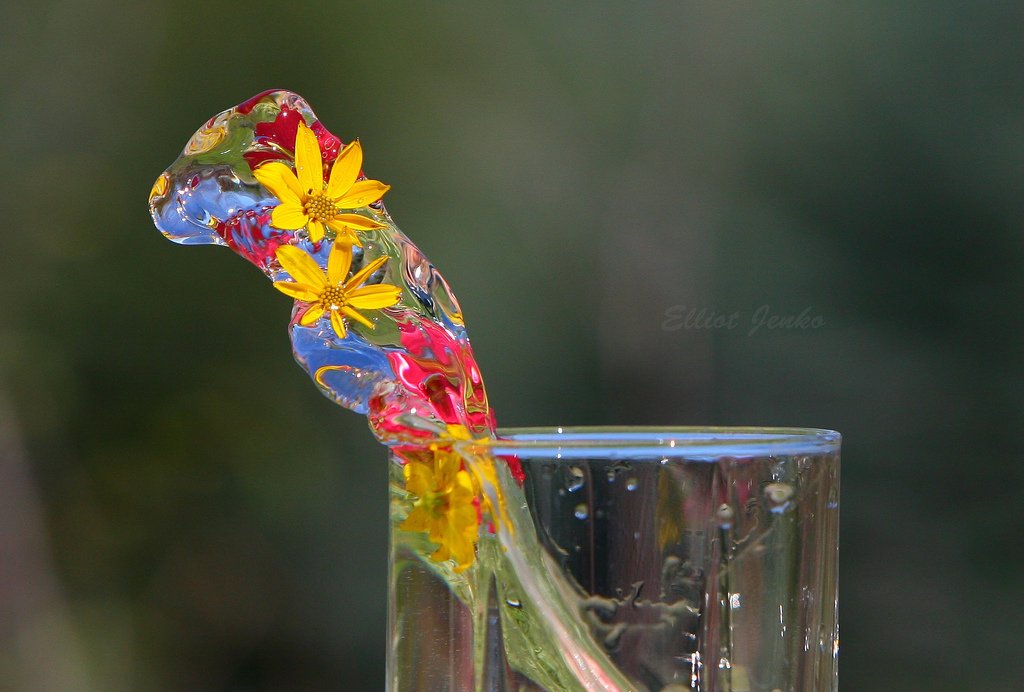glass of water: (399, 410, 881, 692)
